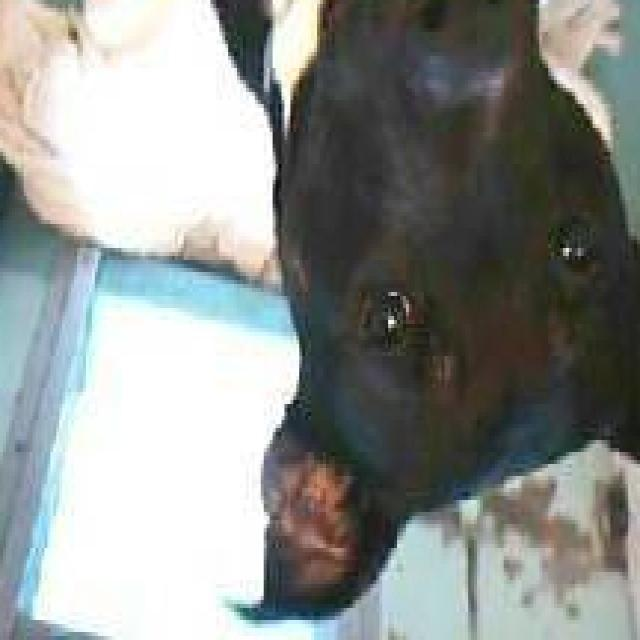Dog: (213, 0, 640, 636)
